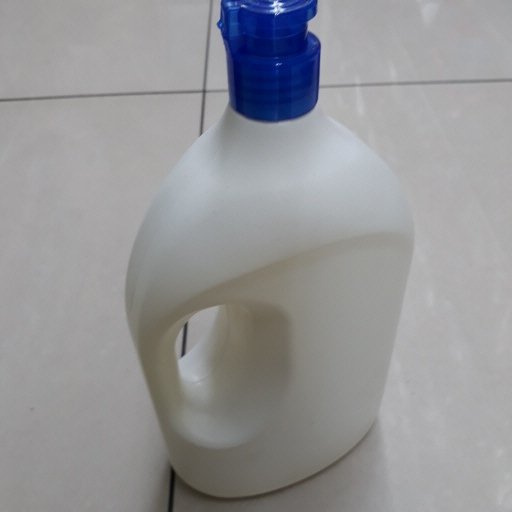Plastic_1: (126, 1, 420, 500)
